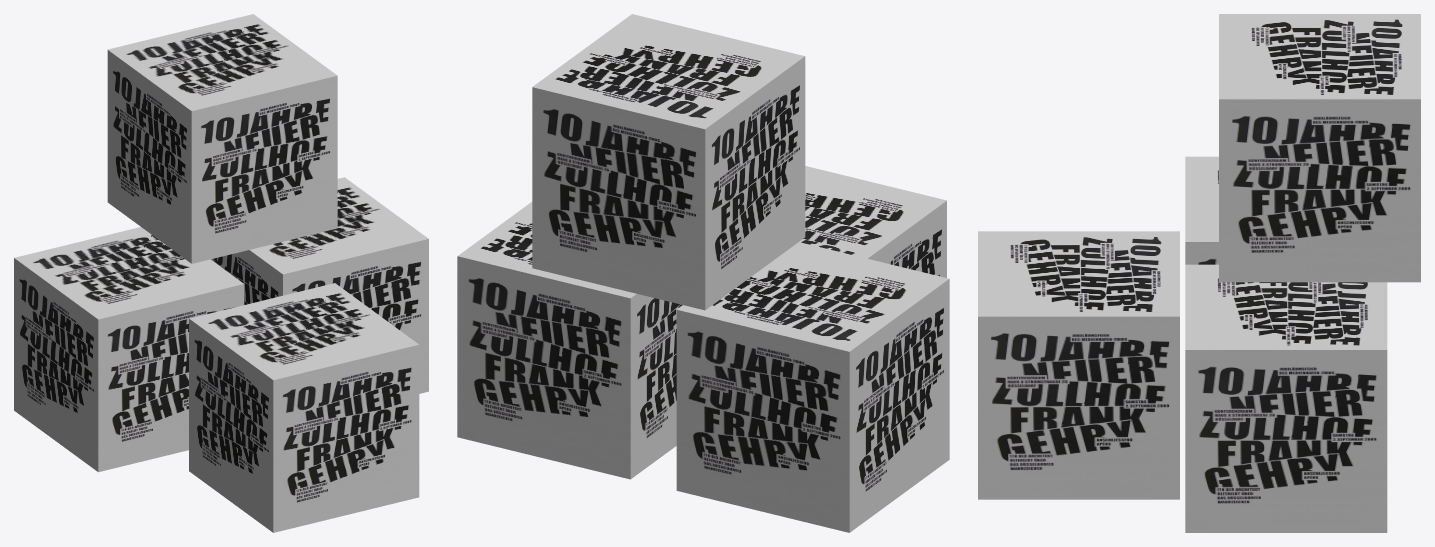
3 views of the same model, side by side, from view 1: azimuth 30°, elevation 25°; view 2: azimuth 150°, elevation 25°; view 3: azimuth 270°, elevation 25° (orthographic). The views are drawn at different scales.
Parts seen in each view (by area): view 1: Cube.3, Cube.2, Cube, Cube.1; view 2: Cube.2, Cube, Cube.1, Cube.3; view 3: Cube.3, Cube.2, Cube.1, Cube.
Boxes of the visible parts, box(x1,y1,x2,y2) form: Cube.3: box(189, 283, 419, 532); Cube.2: box(107, 14, 337, 263); Cube: box(14, 227, 244, 472); Cube.1: box(211, 177, 428, 393); Cube.2: box(532, 14, 805, 310); Cube: box(676, 242, 949, 532); Cube.1: box(457, 202, 682, 479); Cube.3: box(799, 166, 946, 277); Cube.3: box(978, 231, 1179, 499); Cube.2: box(1219, 14, 1420, 282); Cube.1: box(1185, 264, 1387, 532); Cube: box(1185, 156, 1218, 264).
Size of the model in its own units: 453 by 450 by 439.
Materials: 1 (1 with a texture image).
